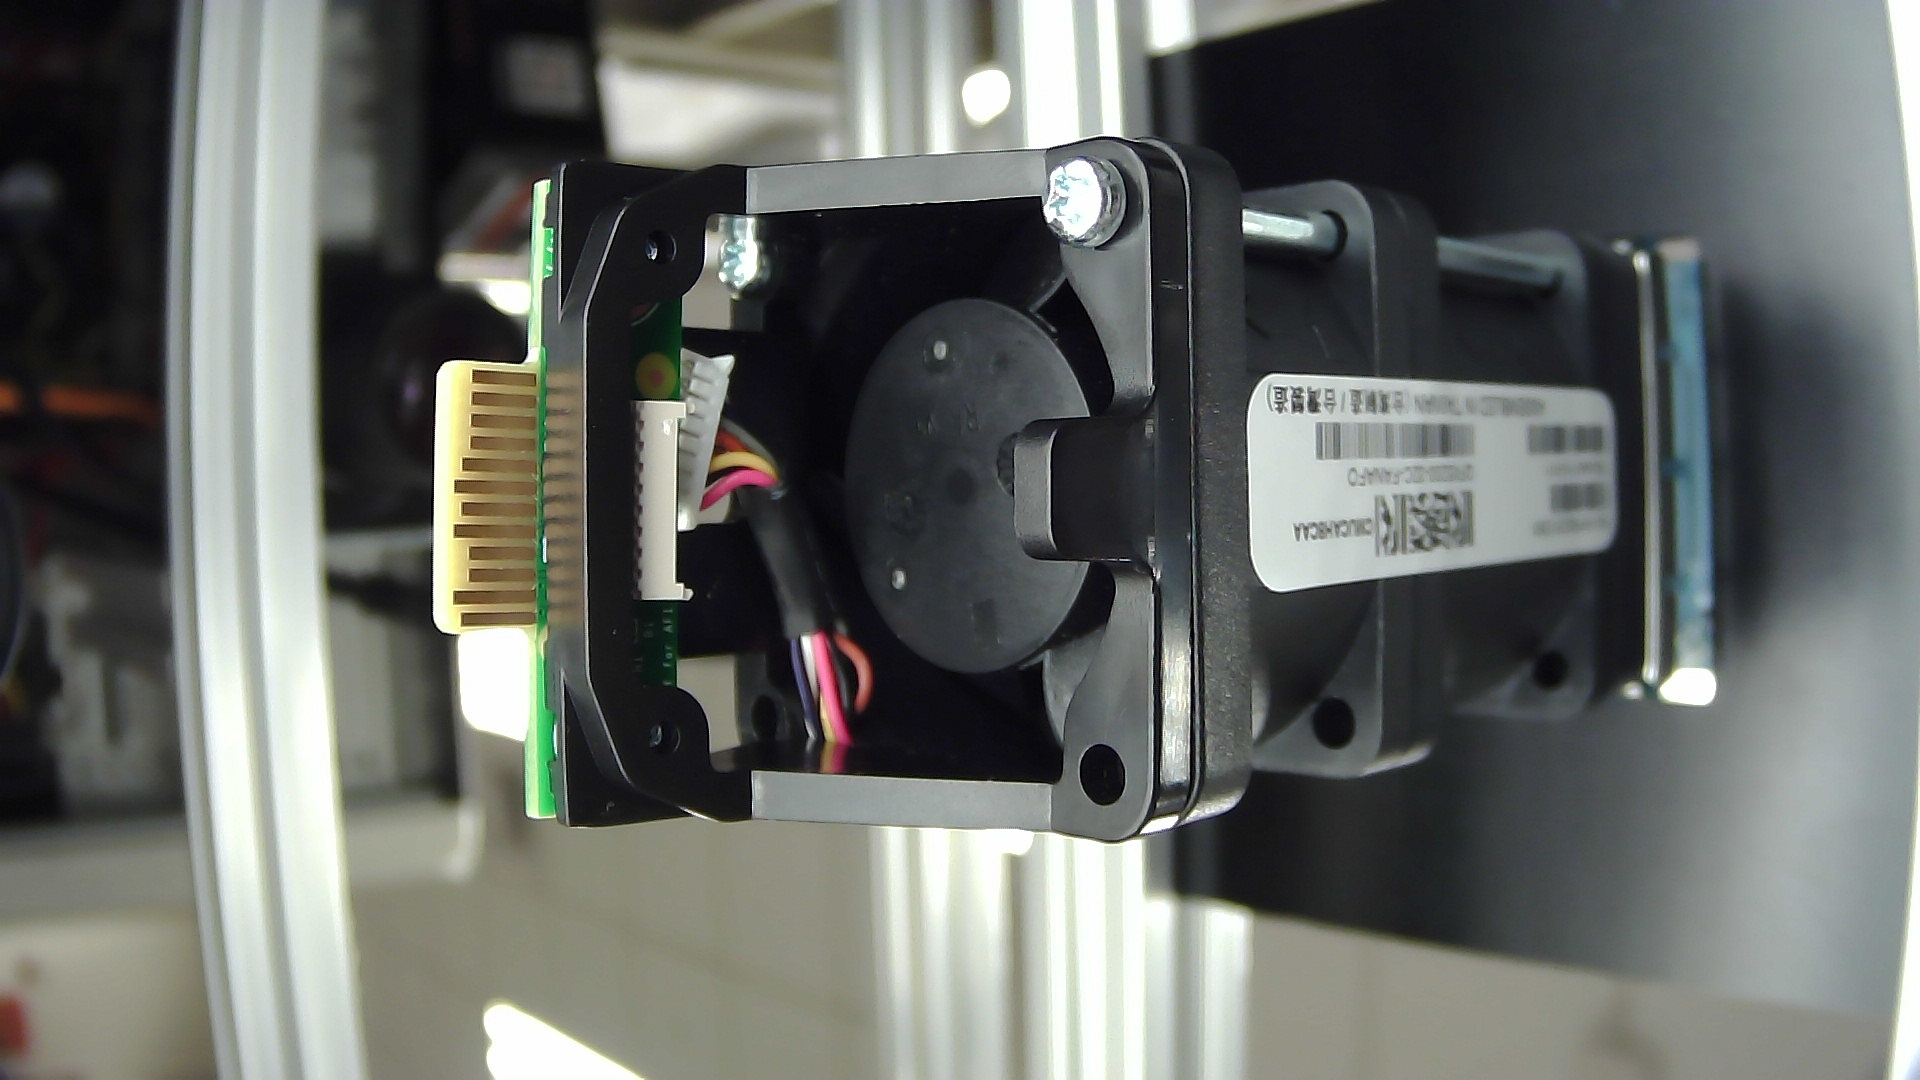8_3: (618, 371, 716, 625)
